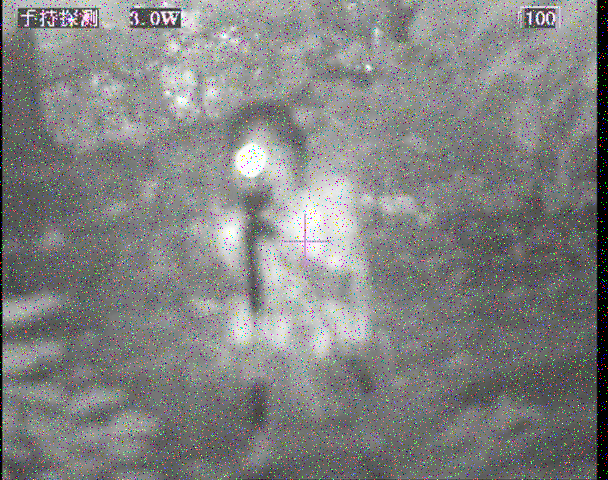my: (231, 144, 269, 179)
